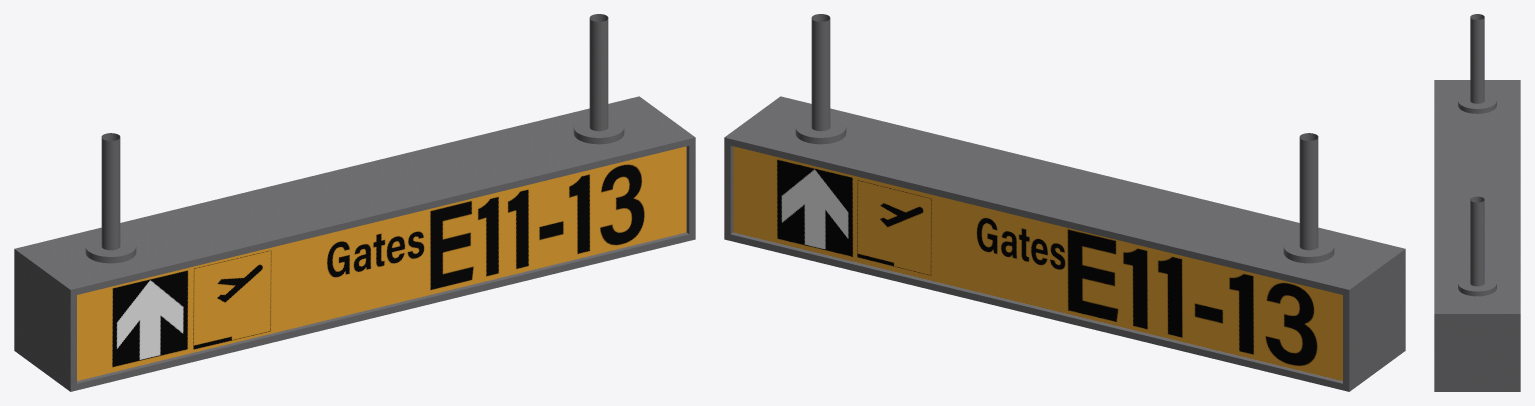
File: airport_boarding_gate_sign.glb
3 views of the same model, side by side, from view 1: azimuth 30°, elevation 25°; view 2: azimuth 150°, elevation 25°; view 3: azimuth 270°, elevation 25° (orthographic). The views are drawn at different scales.
Visible parts, largest first — view 1: Cube; view 2: Cube; view 3: Cube.
Part boxes in pixels (x1,y1,x2,y2): Cube: (14, 14, 695, 391); Cube: (724, 14, 1405, 391); Cube: (1434, 14, 1520, 391).
Bounding box in the file's own units: 12.83 × 4.27 × 2.
Materials: 1 (1 with a texture image).
